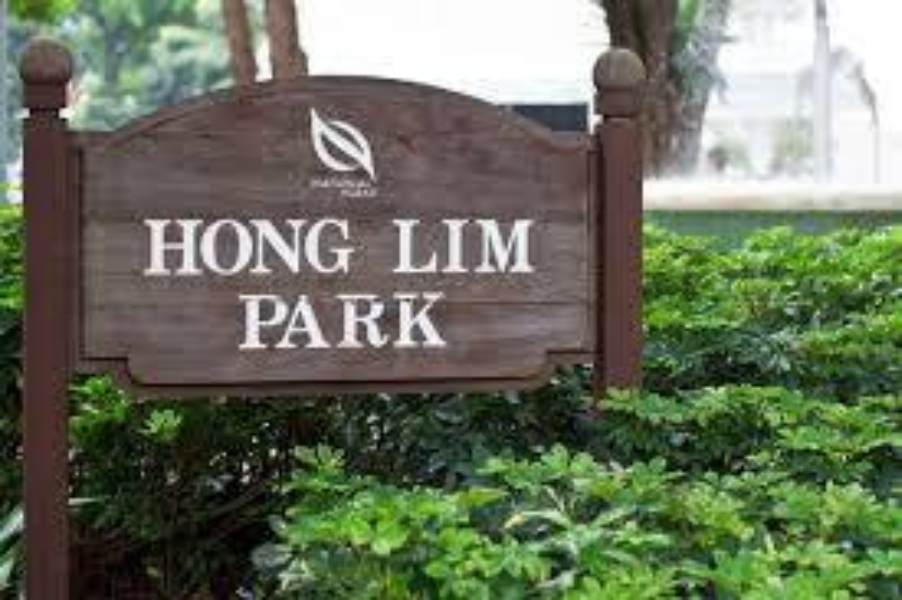text: (145, 214, 160, 279), (161, 214, 176, 279), (177, 214, 192, 279), (193, 214, 208, 279), (209, 214, 224, 279), (225, 214, 240, 279), (241, 214, 256, 279), (257, 214, 272, 279), (273, 214, 288, 279), (289, 214, 304, 279), (305, 214, 320, 279), (321, 214, 336, 279), (337, 214, 352, 279), (241, 286, 256, 351), (257, 286, 272, 351), (273, 286, 288, 351), (289, 286, 304, 351), (305, 286, 320, 351), (321, 286, 336, 351), (337, 286, 352, 351), (353, 286, 368, 351), (369, 286, 384, 351), (385, 286, 400, 351), (401, 286, 416, 351), (417, 286, 432, 351), (433, 286, 448, 351), (401, 214, 416, 276), (417, 214, 432, 276), (433, 214, 448, 276), (449, 214, 464, 276), (465, 214, 480, 276), (481, 214, 496, 276), (497, 214, 512, 276), (513, 214, 528, 276), (388, 214, 400, 276), (529, 214, 538, 276), (353, 214, 358, 279), (237, 286, 240, 351), (142, 214, 144, 279), (449, 286, 450, 351)
